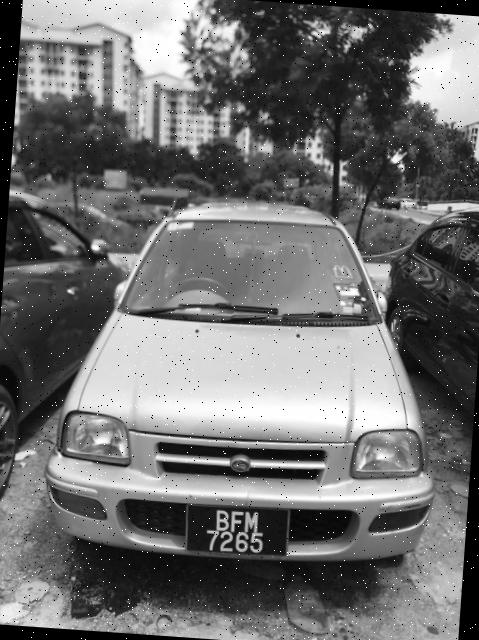License_Plate: (188, 502, 287, 561)
car: (30, 179, 459, 587)
